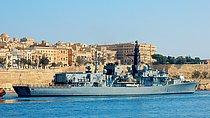MIL_Ship: (11, 60, 201, 96)
